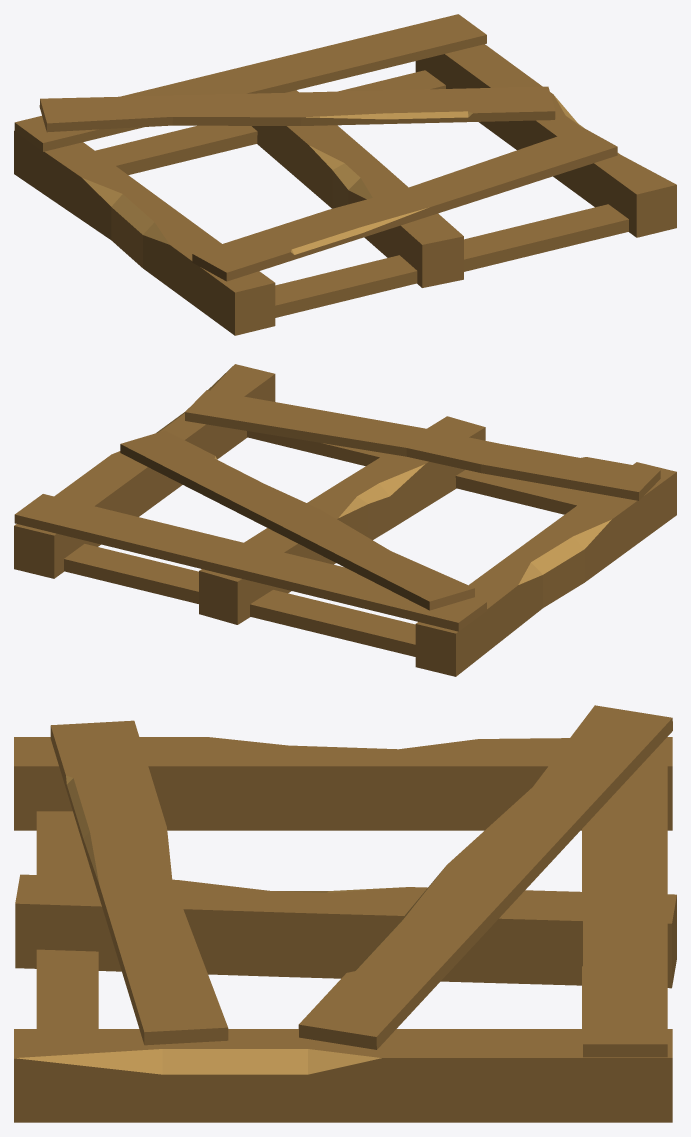
The model's file is Pallet Broken.glb.
The picture shows the model from 3 angles, top to bottom: view 1: azimuth 30°, elevation 25°; view 2: azimuth 150°, elevation 25°; view 3: azimuth 270°, elevation 25°; orthographic projection. The views are drawn at different scales.
Parts seen in each view (by area): view 1: Pallet Broken; view 2: Pallet Broken; view 3: Pallet Broken.
Part boxes in pixels (x1,y1,x2,y2): Pallet Broken: [14, 14, 676, 335]; Pallet Broken: [14, 364, 676, 676]; Pallet Broken: [14, 705, 676, 1122].
Bounding box in the file's own units: 1.69 × 0.2507 × 1.47.
